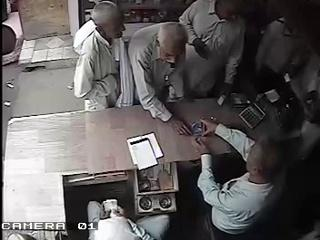Normal: (192, 120, 286, 240), (126, 22, 192, 136), (179, 0, 249, 105)
shoplifting: (72, 1, 127, 111)
